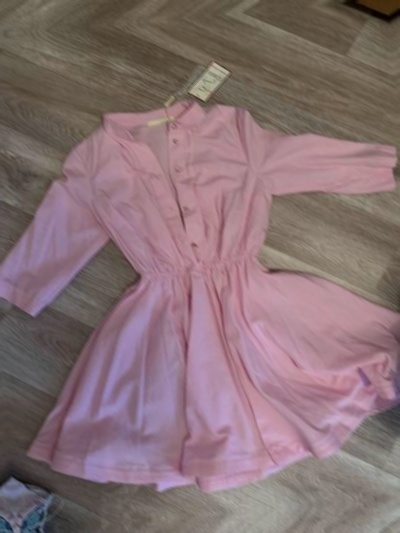Dress: (0, 68, 400, 502), (0, 106, 9, 533), (24, 525, 400, 533), (394, 30, 400, 464)
